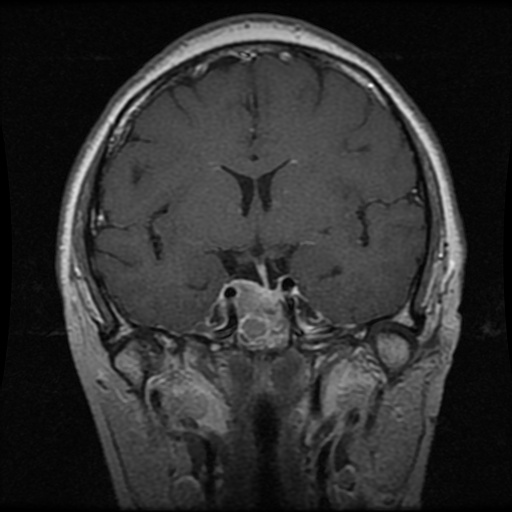pituitary: (241, 317, 268, 341)
